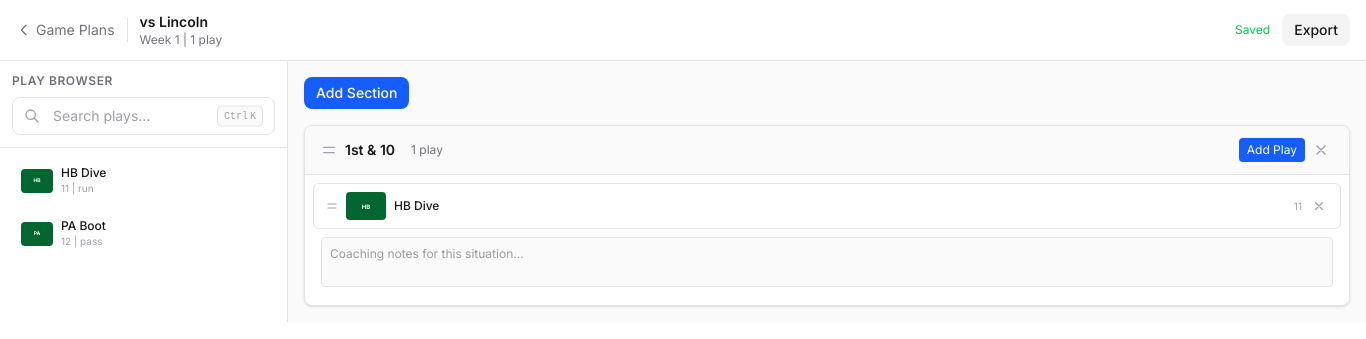
GamePlanEditorPage › opens section preset menu when Add Section is clicked
Click the button with test id "add-section-btn" at (357, 93), box [304,77,409,109]
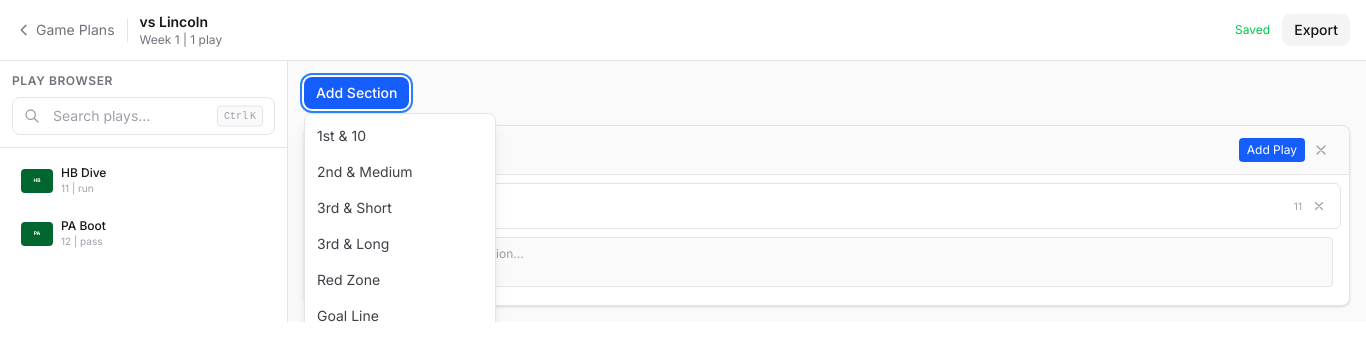
Result: the element with test id "preset-menu" is shown at [304,113,496,322]
